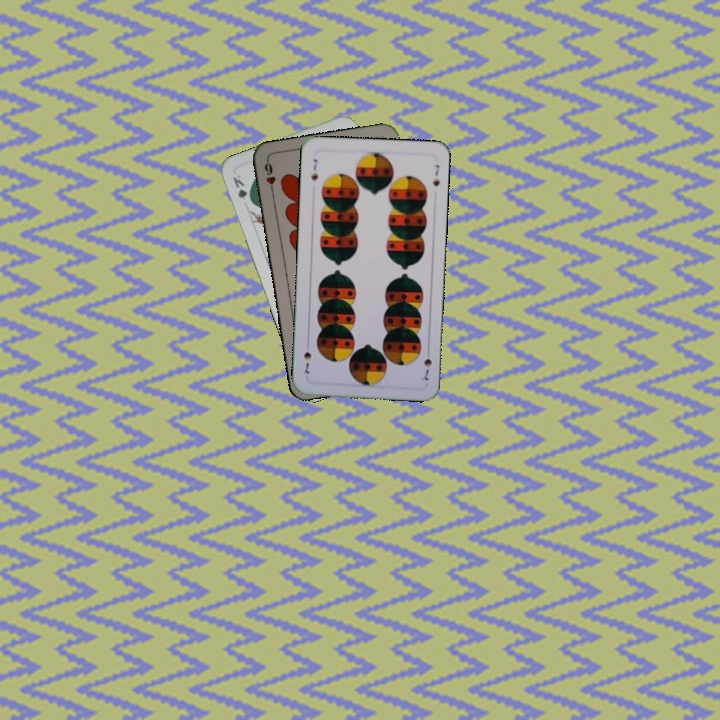GK: (228, 170, 255, 207)
H9: (260, 157, 278, 197)
S7: (420, 344, 434, 383), (307, 155, 320, 183)
